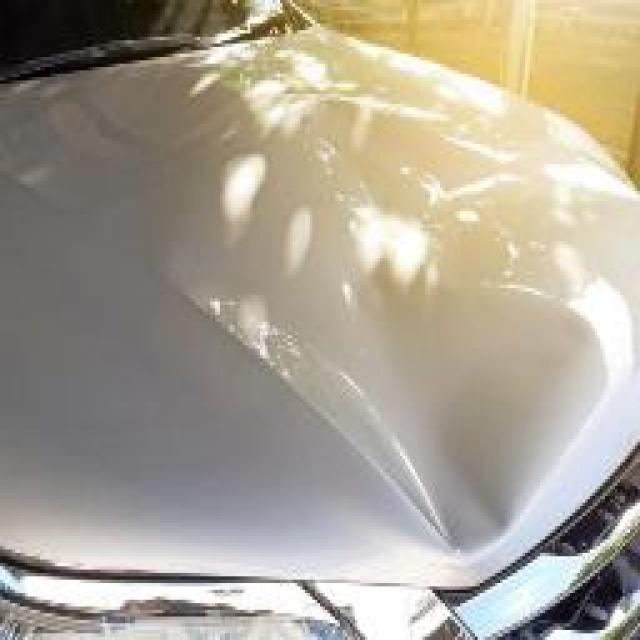Bonnet: (153, 147, 640, 567)
